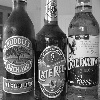beer: (4, 2, 36, 98)
